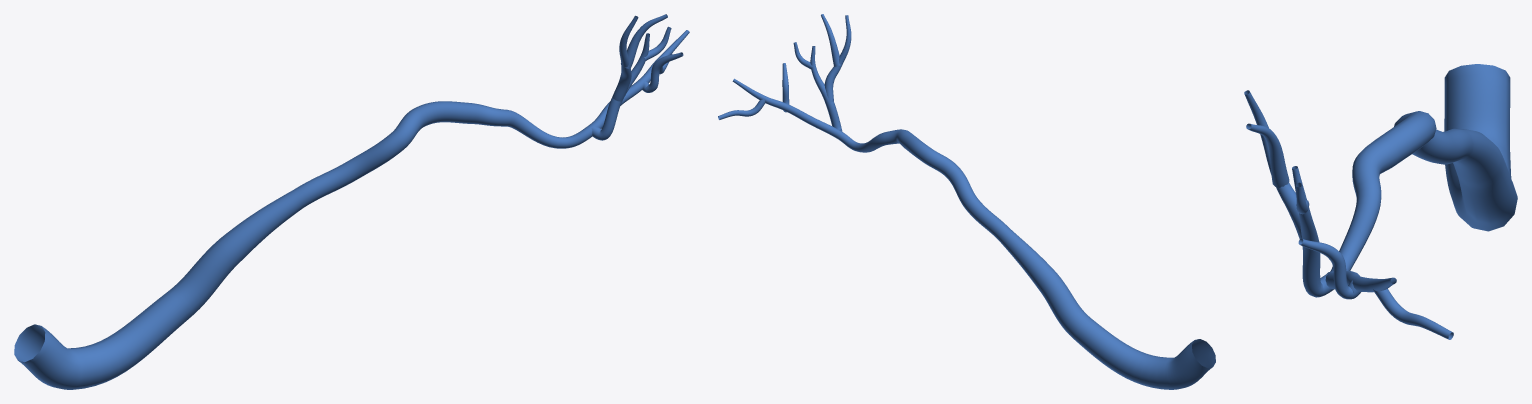
The picture shows the model from 3 angles, left to right: view 1: azimuth 30°, elevation 25°; view 2: azimuth 150°, elevation 25°; view 3: azimuth 270°, elevation 25°; orthographic projection. The views are drawn at different scales.
Visible parts, largest first — view 1: 脾静脉; view 2: 脾静脉; view 3: 脾静脉.
Boxes of the visible parts, left/top/right/bottom form: 脾静脉: left=14, top=14, right=689, bottom=389; 脾静脉: left=718, top=14, right=1215, bottom=389; 脾静脉: left=1244, top=64, right=1517, bottom=339.
Bounding box in the file's own units: 0.1564 × 0.0714 × 0.0369.
